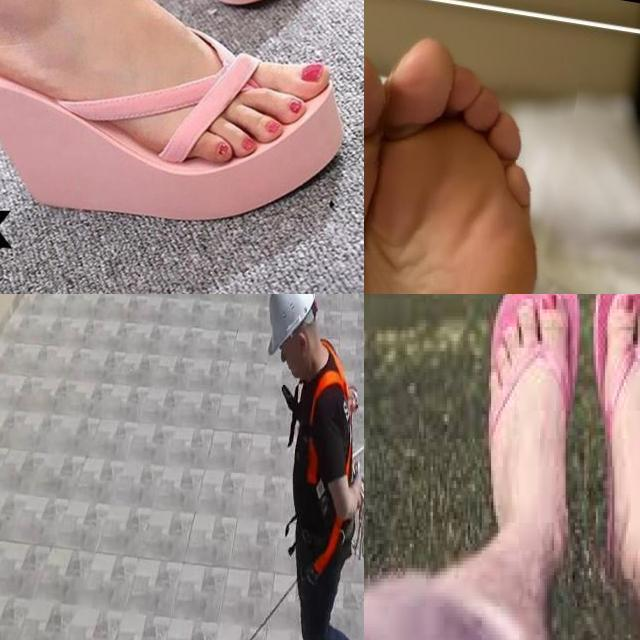Barefoots: (364, 34, 551, 294)
Harness: (292, 345, 364, 571)
Sandals: (0, 0, 343, 222), (456, 294, 640, 618)
